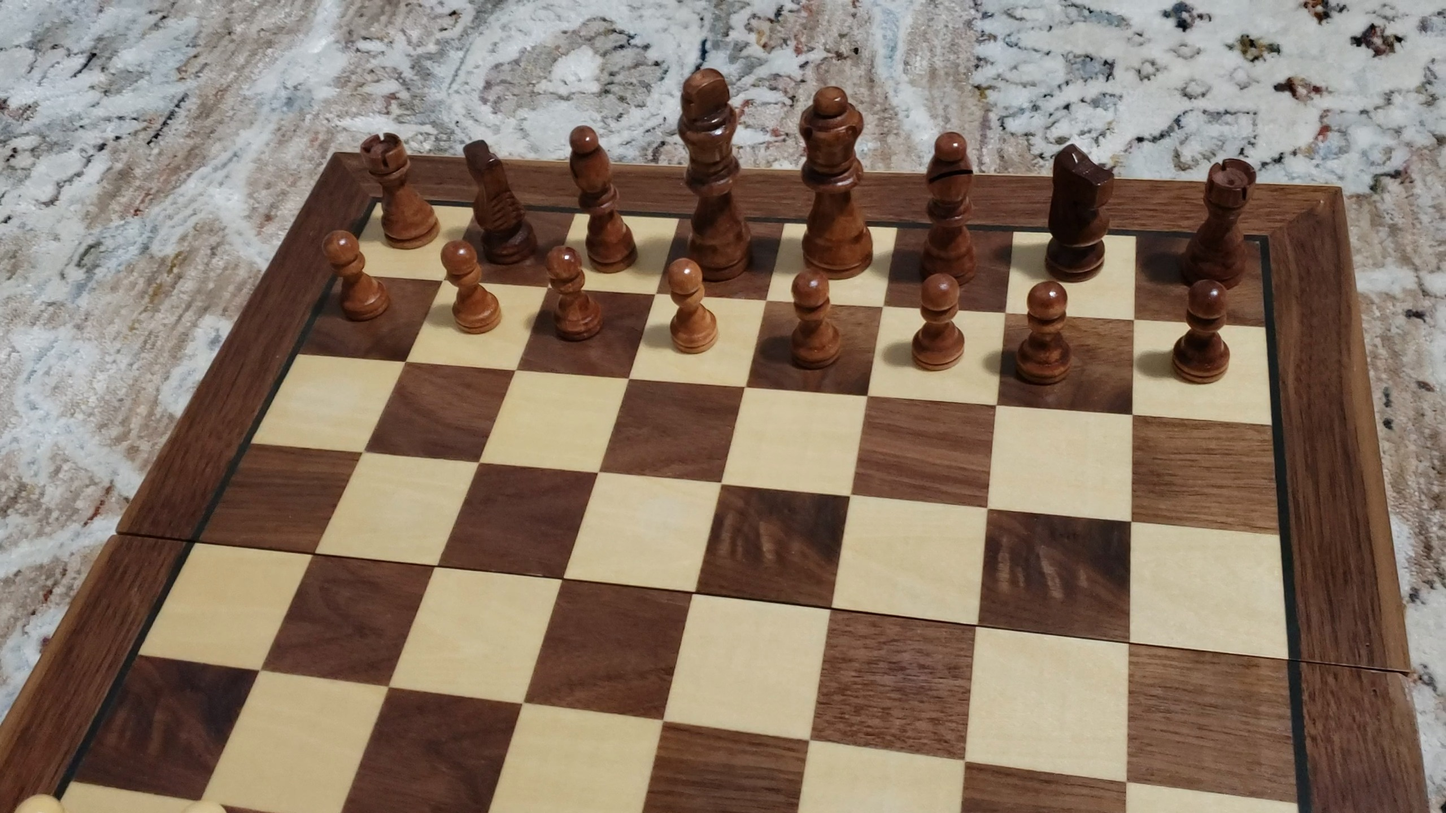black-bishop: (568, 123, 634, 271), (921, 128, 978, 284)
black-king: (674, 62, 752, 281)
black-knight: (1045, 141, 1115, 279), (463, 138, 533, 264)
black-pawn: (1169, 277, 1233, 386), (321, 228, 387, 324), (1016, 278, 1072, 387), (439, 239, 501, 335), (543, 243, 602, 343), (787, 267, 843, 371), (661, 256, 718, 355), (911, 270, 965, 373)
black-queen: (794, 82, 874, 278)
black-rook: (1181, 156, 1257, 287), (358, 130, 437, 247)
